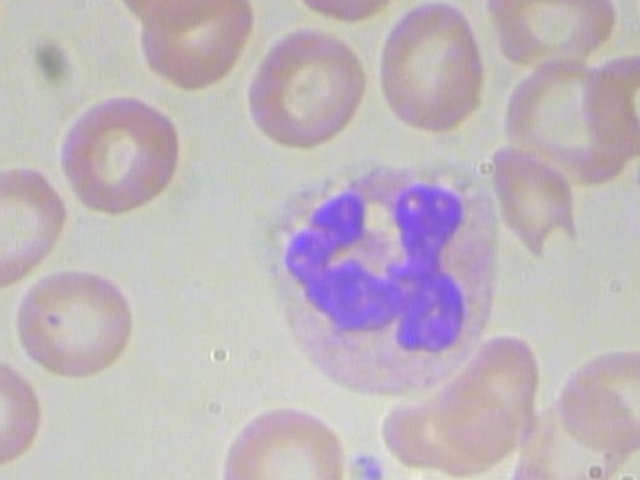Platelets: (353, 447, 390, 480)
RBC: (228, 21, 377, 154), (51, 92, 184, 216), (8, 261, 141, 385), (371, 0, 493, 135), (217, 398, 362, 480), (138, 0, 259, 95), (483, 0, 626, 79), (554, 341, 640, 453), (0, 162, 77, 287), (0, 348, 46, 475), (629, 0, 640, 57)
WBC: (252, 157, 512, 404)
